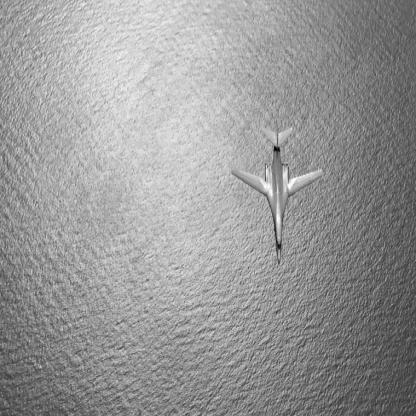B1: (231, 127, 324, 266)
